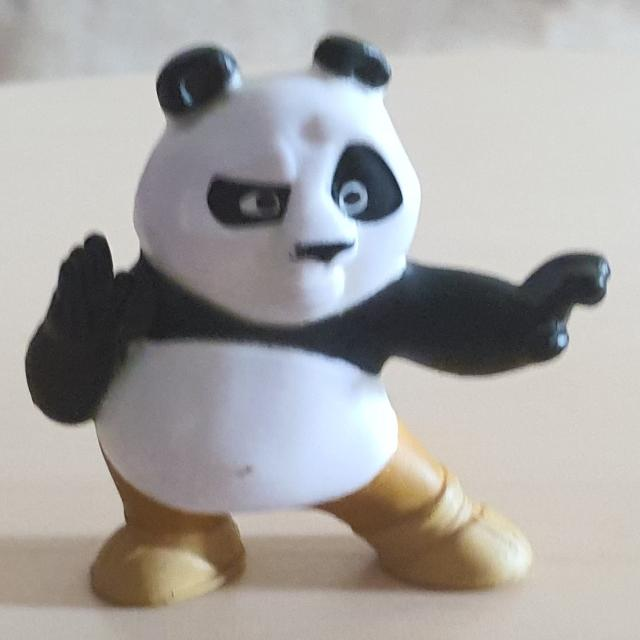Panda: (24, 33, 611, 606)
